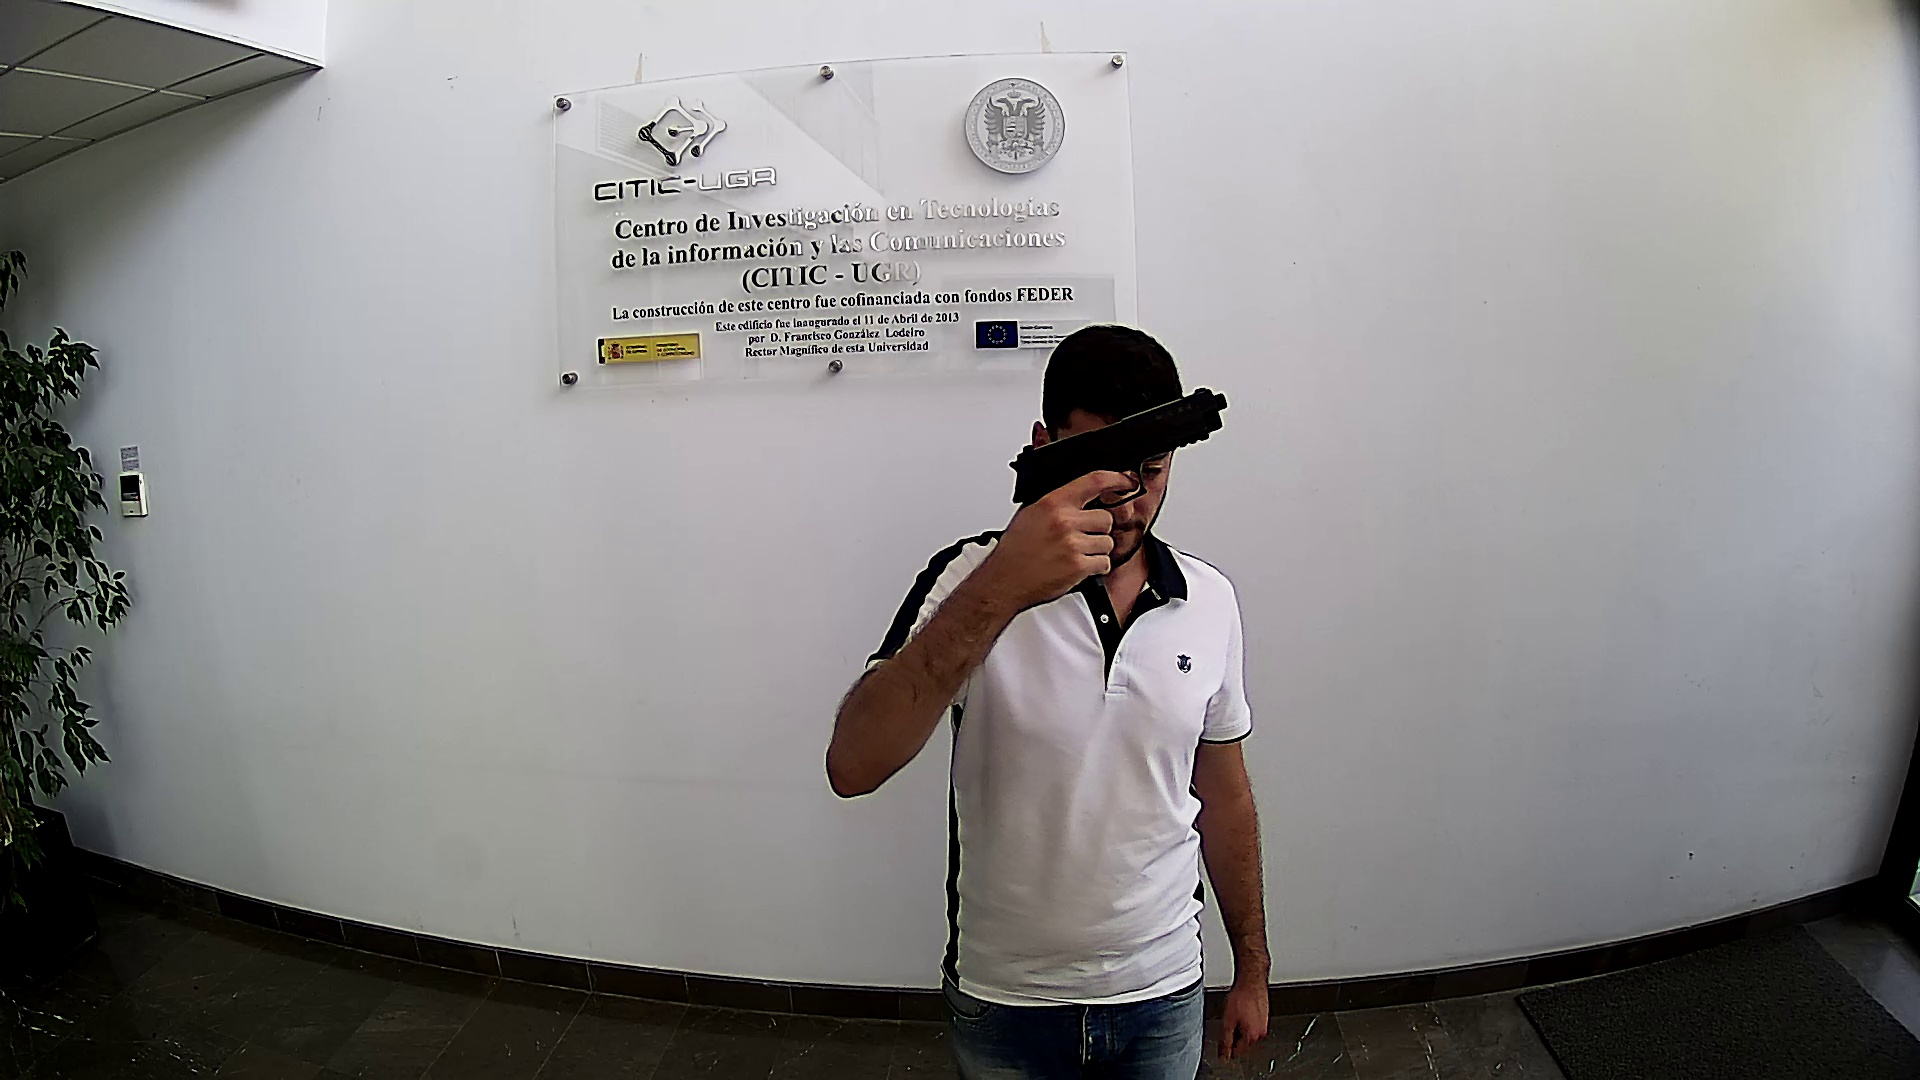pistol: (1011, 384, 1230, 516)
